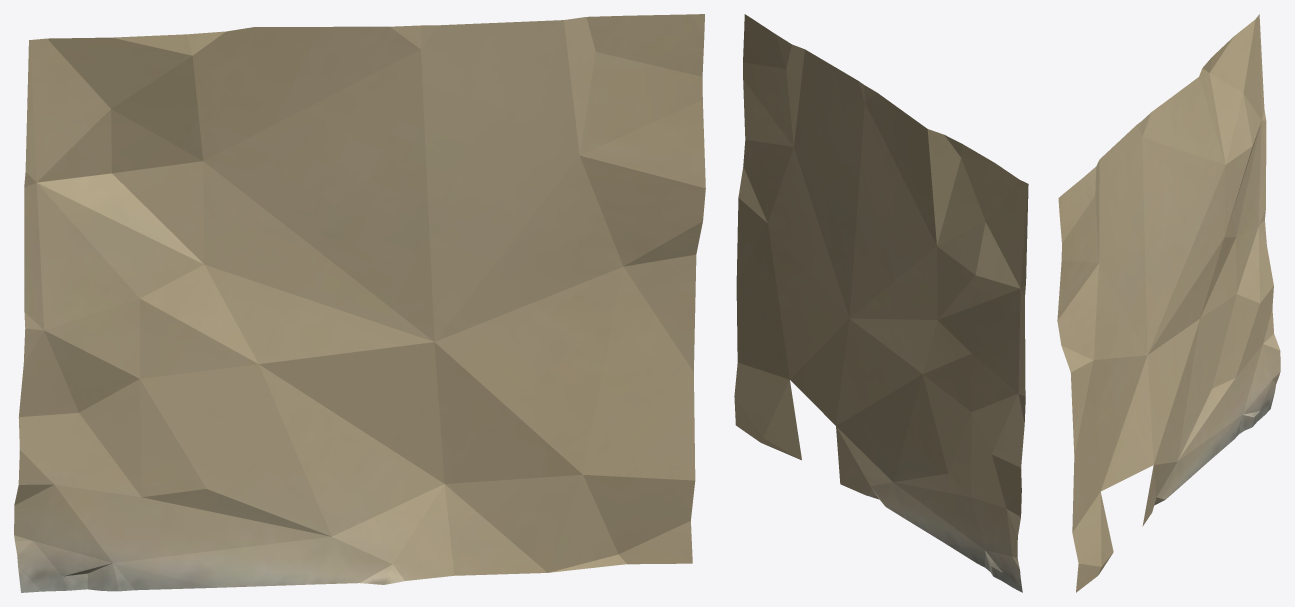
3 views of the same model, side by side, from view 1: azimuth 30°, elevation 25°; view 2: azimuth 150°, elevation 25°; view 3: azimuth 270°, elevation 25° (orthographic). The views are drawn at different scales.
Bounding box in the file's own units: 0.8373 × 0.8373 × 0.4289.
3 materials, 3 textured.
